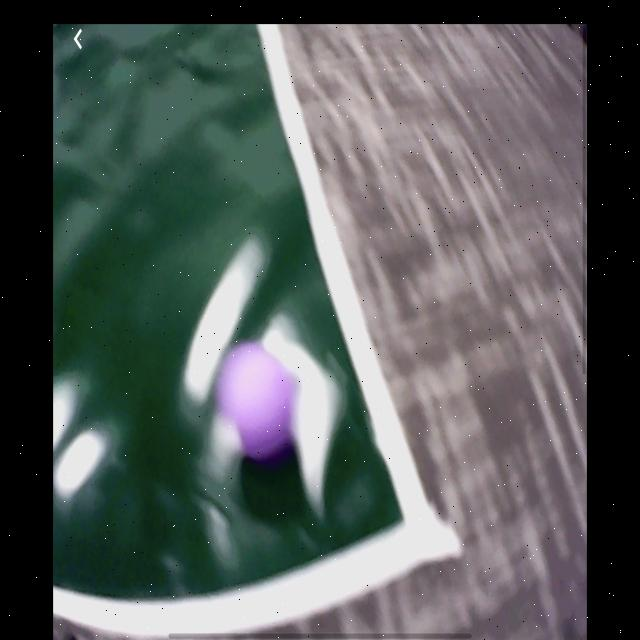ball: (215, 340, 301, 463)
